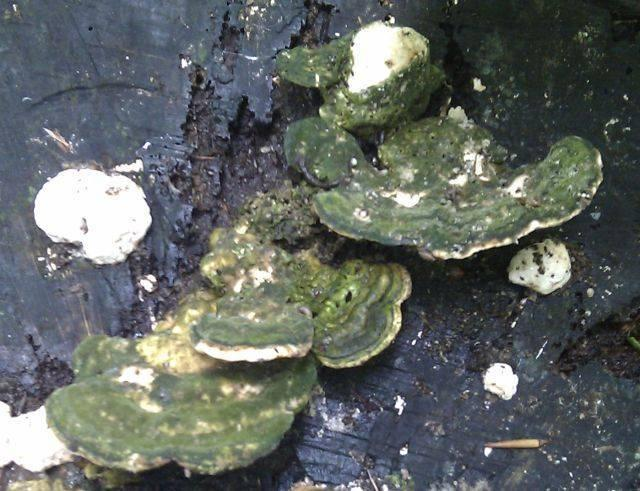Non-edible Mushroom: (34, 17, 605, 491)
